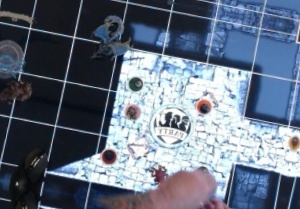green: (125, 72, 148, 94)
orange: (193, 96, 215, 118)
pink: (122, 100, 146, 124)
red: (97, 145, 119, 165)
yellow: (283, 128, 297, 150)
